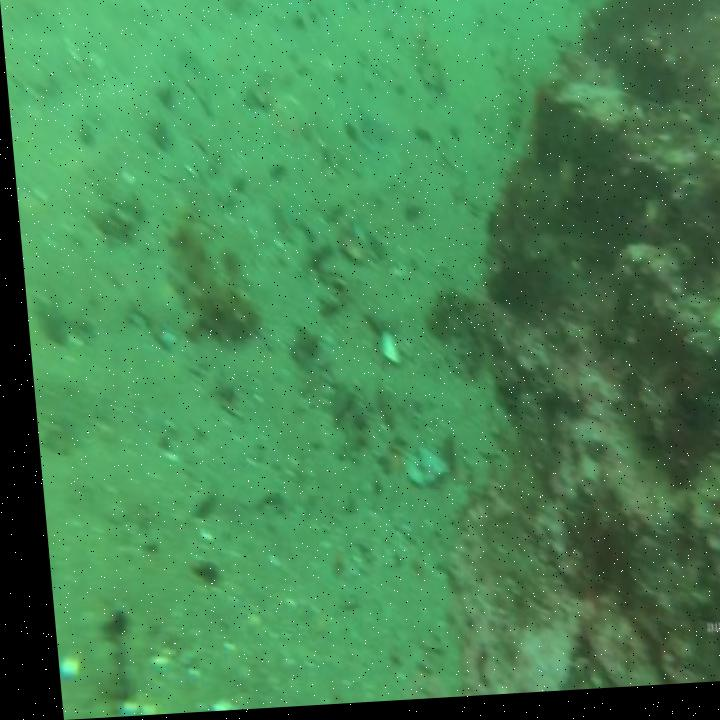holothurian: (160, 208, 254, 352), (421, 285, 480, 387)
